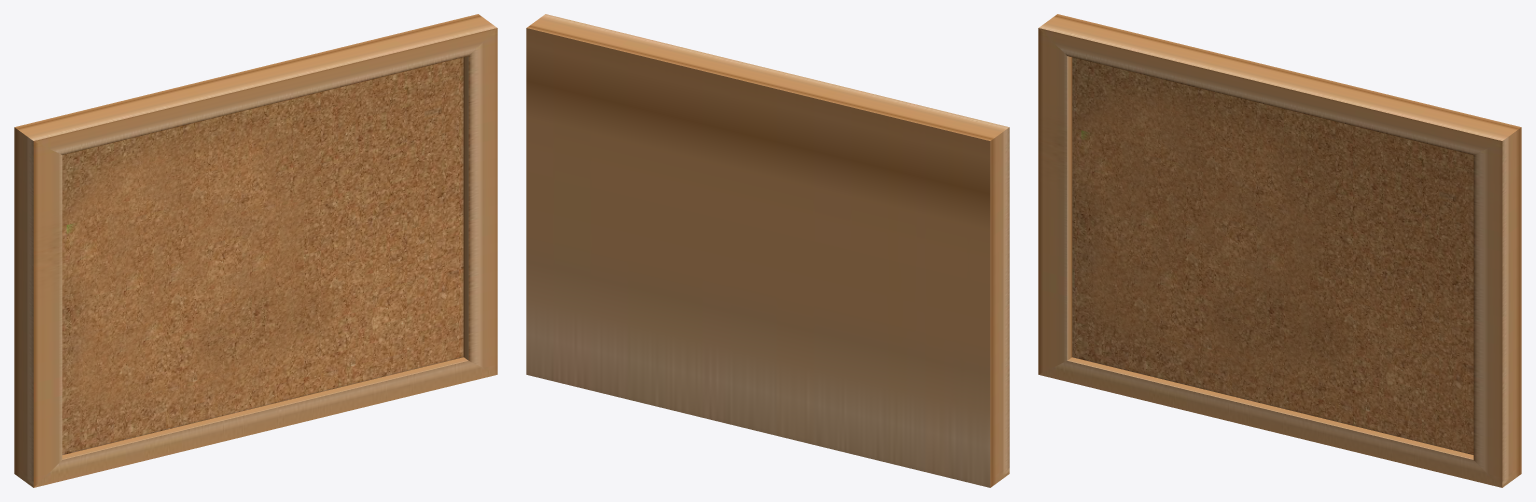
Rendered from Pin It Board.fbx.
3 renders of one model, left to right at view 1: azimuth 30°, elevation 25°; view 2: azimuth 150°, elevation 25°; view 3: azimuth 330°, elevation 25°, orthographic.
Parts seen in each view (by area): view 1: Pin_it_Board; view 2: Pin_it_Board; view 3: Pin_it_Board.
Boxes of the visible parts, box(x1,y1,x2,y2) form: Pin_it_Board: box(14, 14, 497, 487); Pin_it_Board: box(526, 14, 1009, 487); Pin_it_Board: box(1038, 14, 1521, 487).
Size of the model in its own units: 14 by 10 by 1.
